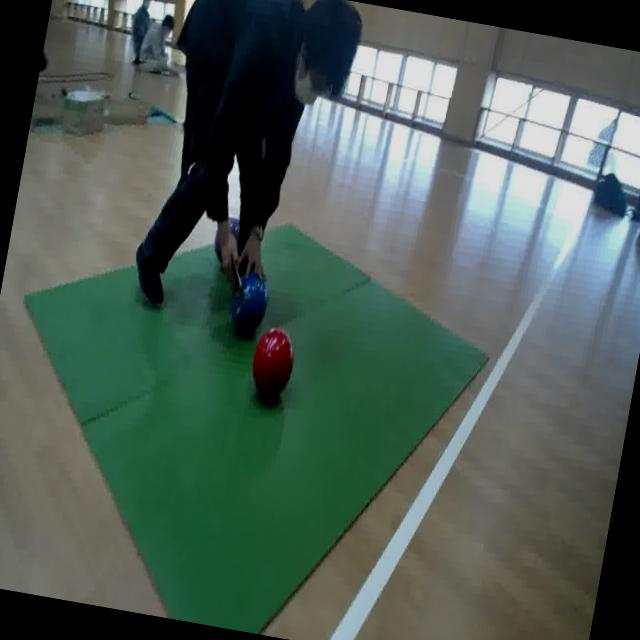blue_ball: (226, 268, 272, 334)
purple_ball: (210, 215, 244, 262)
red_ball: (247, 323, 299, 402)
